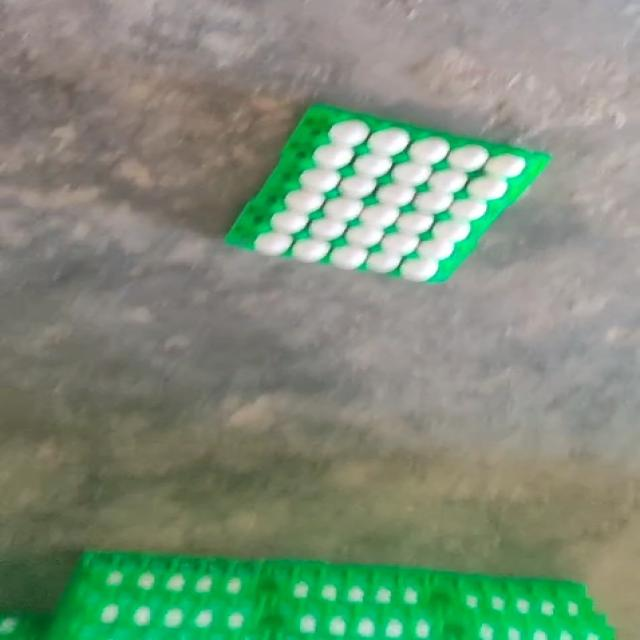egg_tray: (228, 105, 548, 280), (51, 554, 611, 639), (287, 567, 612, 639), (50, 554, 258, 639), (284, 565, 463, 639), (465, 579, 612, 639), (0, 612, 48, 639), (0, 614, 21, 637), (439, 589, 445, 597), (466, 622, 474, 627)
